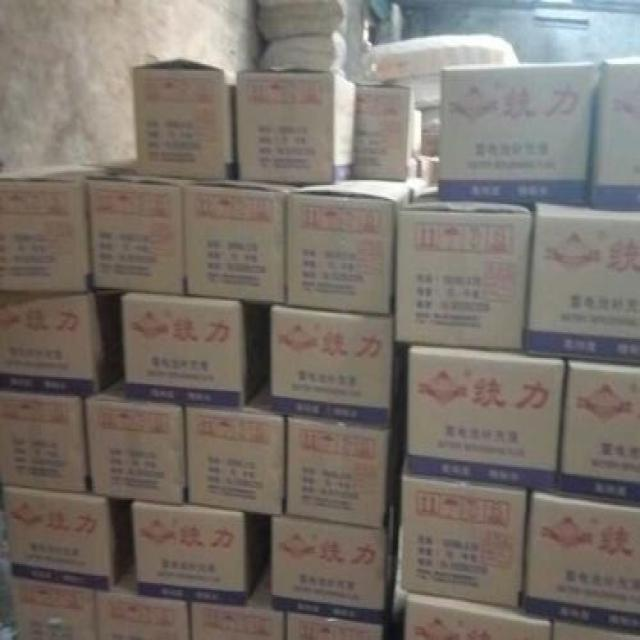box: (408, 346, 563, 493), (439, 64, 595, 206), (394, 202, 531, 349), (525, 204, 640, 365), (522, 491, 640, 637), (402, 474, 529, 607), (287, 178, 410, 313), (271, 304, 392, 431), (123, 294, 251, 406), (0, 163, 108, 294), (238, 71, 355, 185), (188, 381, 284, 515), (133, 502, 257, 604), (88, 377, 184, 505), (188, 182, 288, 304), (271, 519, 388, 623), (86, 175, 188, 294), (3, 488, 118, 592), (0, 292, 113, 396), (285, 415, 388, 528), (134, 67, 236, 180), (561, 360, 640, 503), (0, 391, 86, 491), (97, 557, 191, 640), (590, 55, 640, 209), (404, 592, 550, 640), (192, 564, 284, 640), (351, 80, 412, 183), (12, 578, 96, 638), (285, 612, 381, 640), (554, 623, 640, 640)
